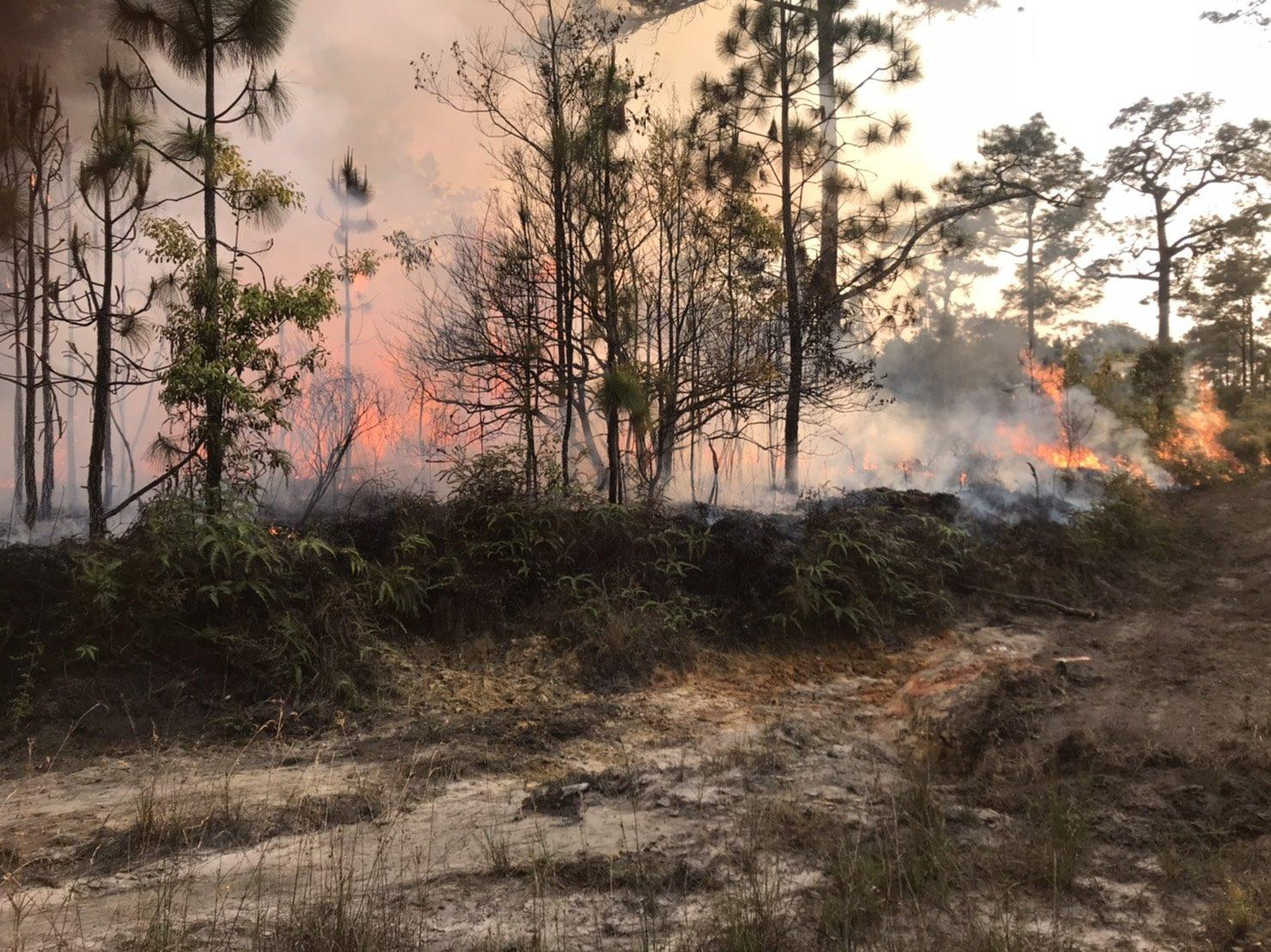fire: (190, 261, 534, 522), (948, 304, 1254, 514)
